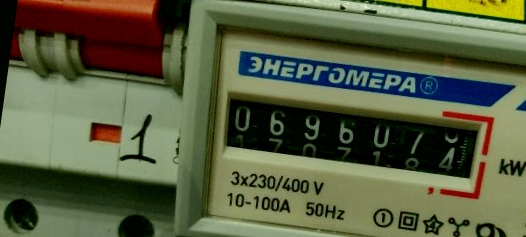0: (229, 101, 253, 133), (369, 117, 392, 149)
4: (434, 142, 457, 172)
6: (263, 104, 289, 137), (335, 114, 357, 145)
7: (404, 123, 425, 155)
9: (300, 110, 322, 142)
screen: (201, 71, 496, 199)
